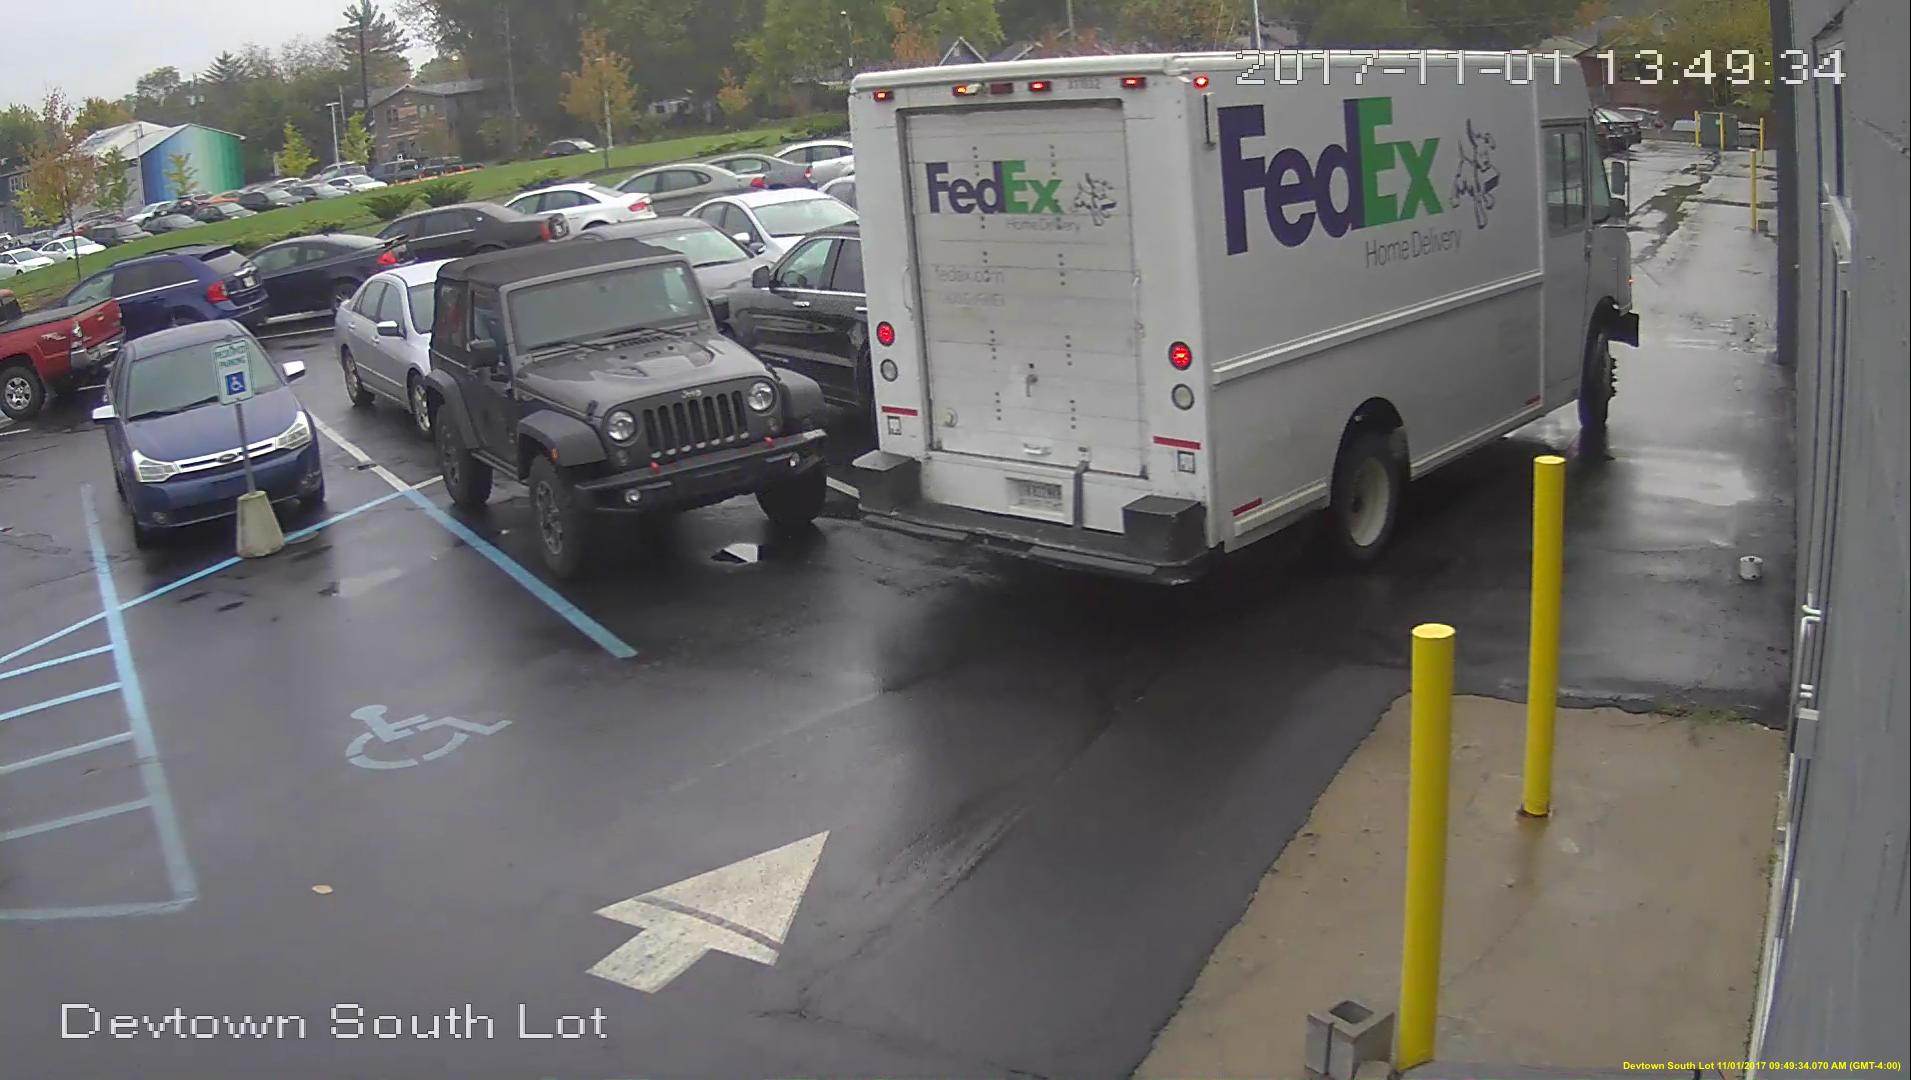fedex_truck: (857, 58, 1639, 585)
